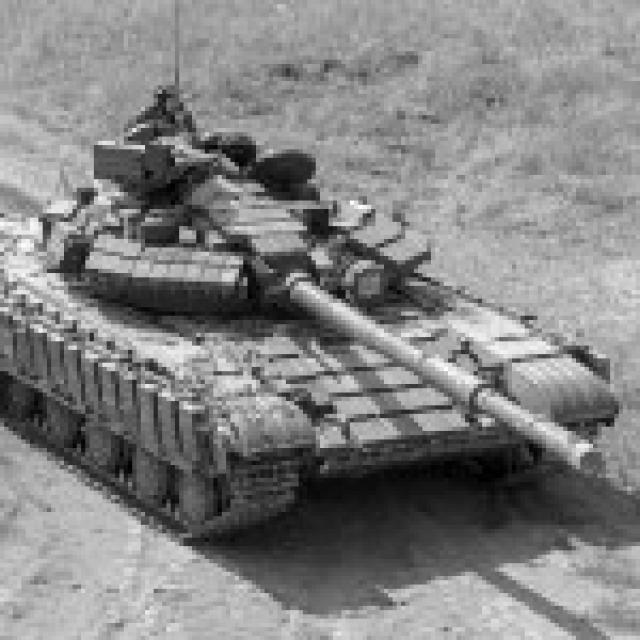Tank: (6, 134, 624, 525)
